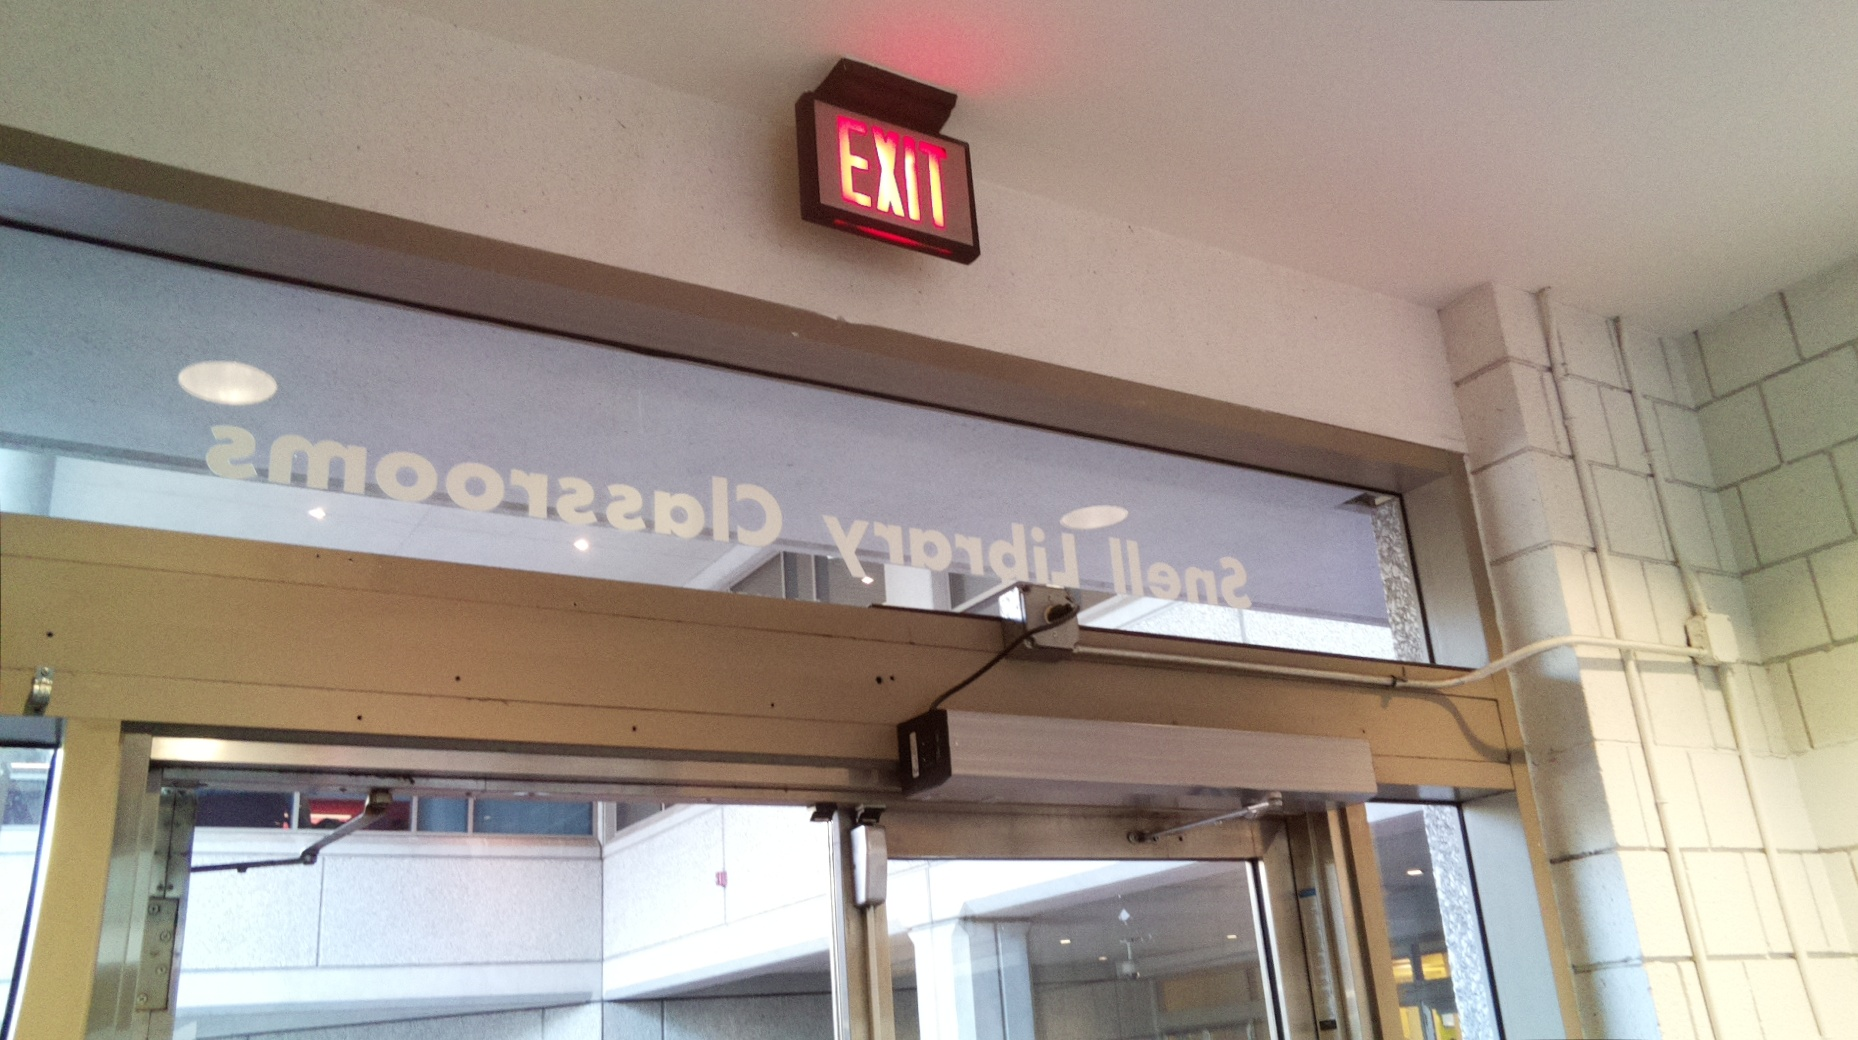exit sign: (789, 87, 986, 272)
